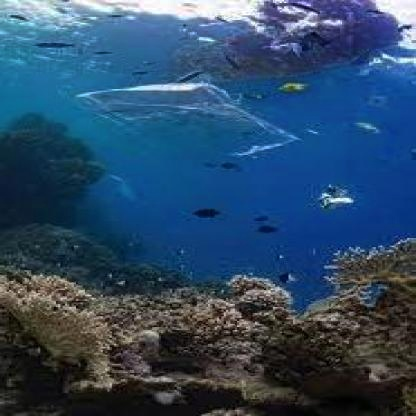pbag: (63, 81, 302, 160)
